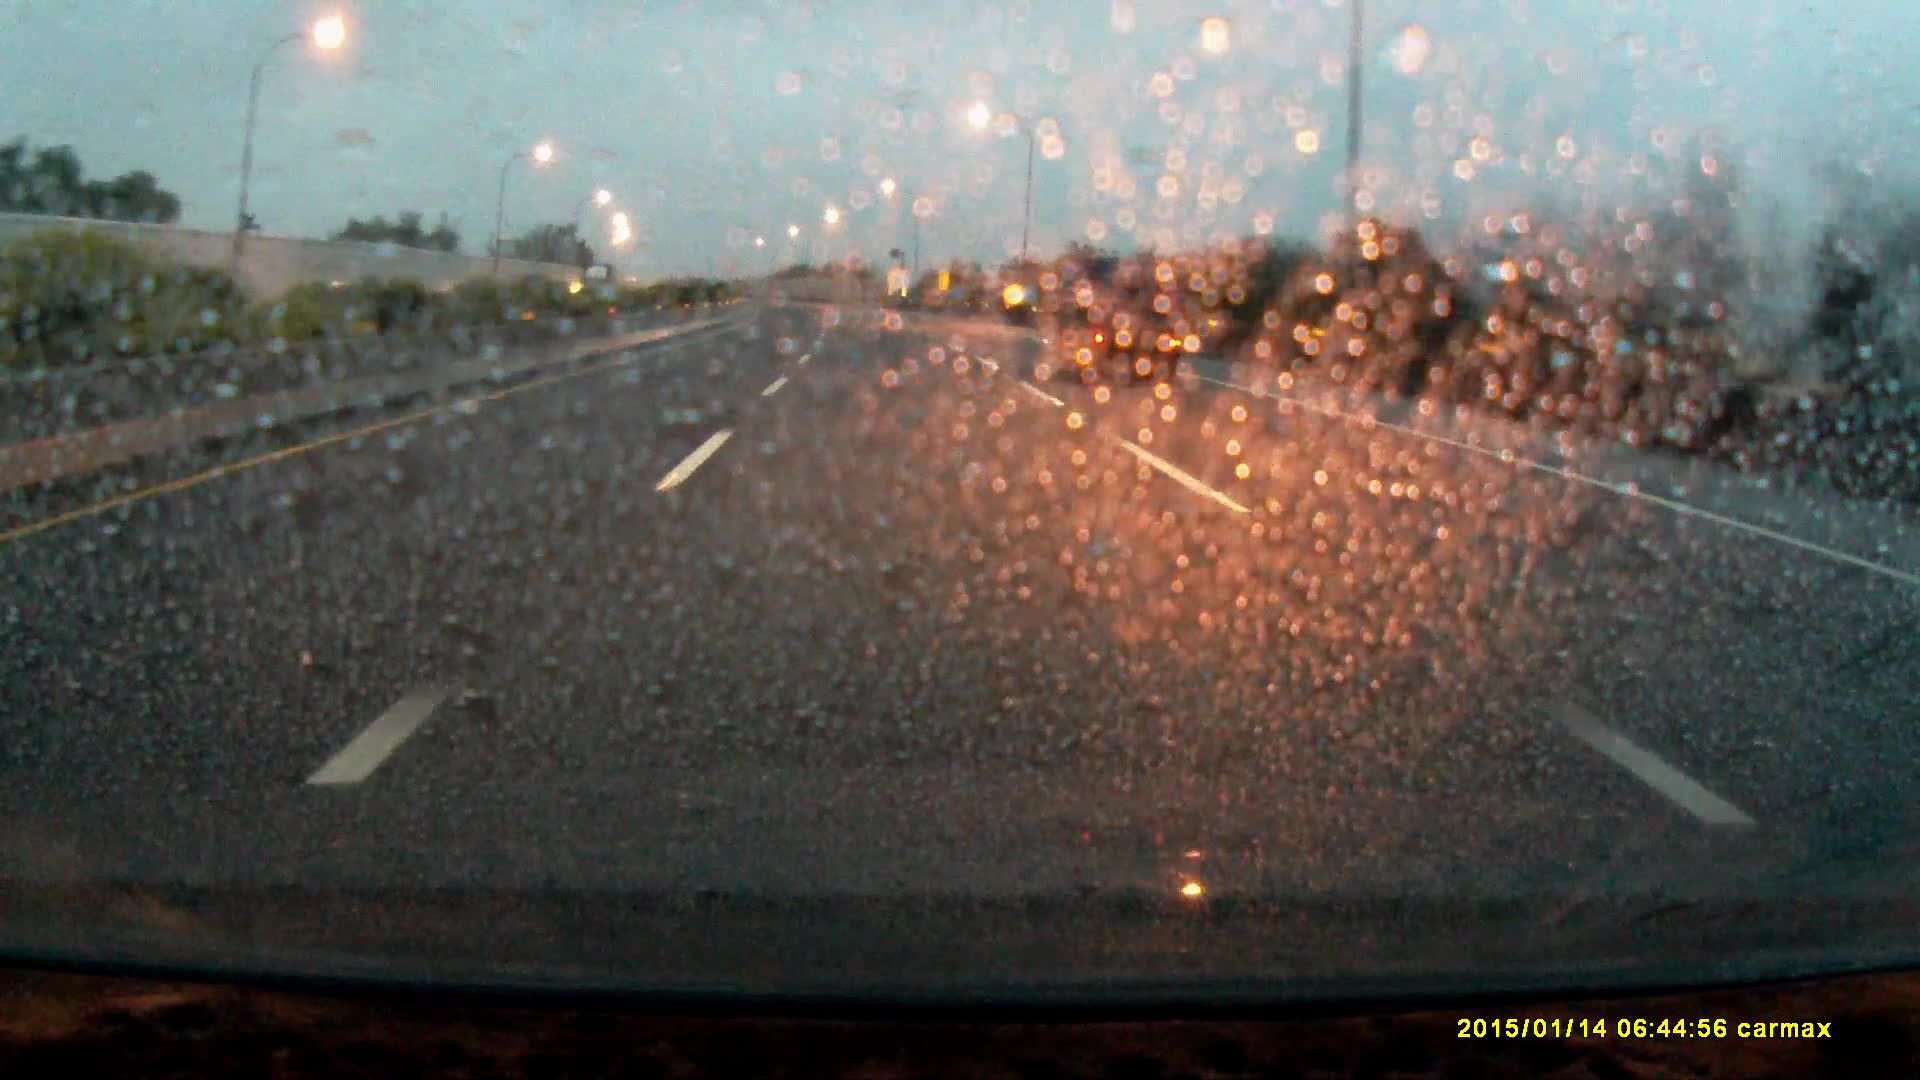vehicle: (1052, 258, 1188, 392), (582, 265, 615, 306)
